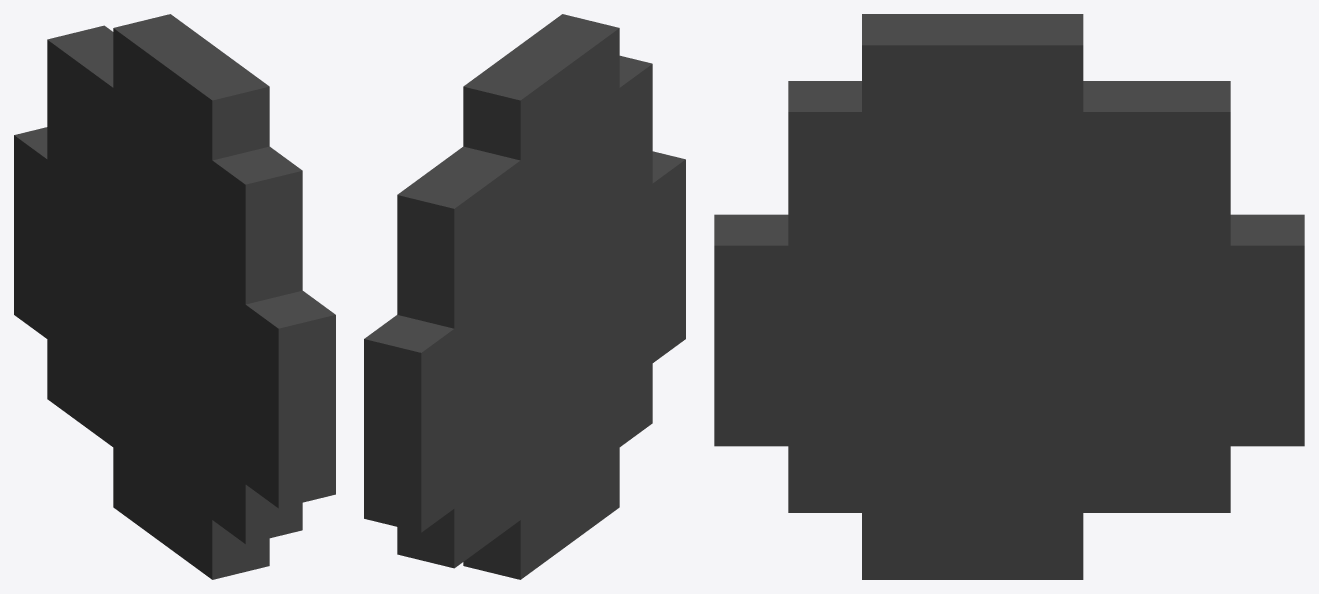
File: lvl1-19.obj
The picture shows the model from 3 angles, left to right: view 1: azimuth 30°, elevation 25°; view 2: azimuth 150°, elevation 25°; view 3: azimuth 270°, elevation 25°; orthographic projection. The views are drawn at different scales.
Bounding box in the file's own units: 0.1 × 0.8 × 0.8.
1 material, 1 textured.
